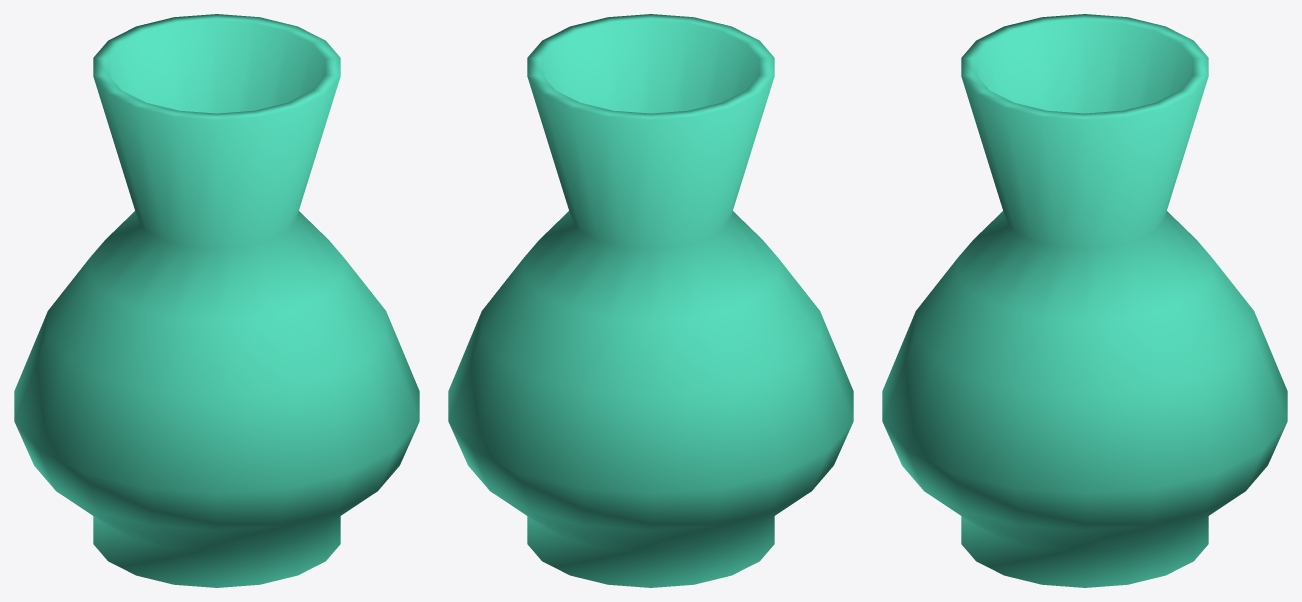
Rendered from vase2.FBX.
3 views of the same model, side by side, from view 1: azimuth 30°, elevation 25°; view 2: azimuth 150°, elevation 25°; view 3: azimuth 270°, elevation 25° (orthographic).
Parts seen in each view (by area): view 1: Cylinder021; view 2: Cylinder021; view 3: Cylinder021.
Part boxes in pixels (x1,y1,x2,y2): Cylinder021: (14, 14, 419, 587); Cylinder021: (448, 14, 853, 587); Cylinder021: (882, 14, 1287, 587).
Bounding box in the file's own units: 0.2674 × 0.3354 × 0.2633.
